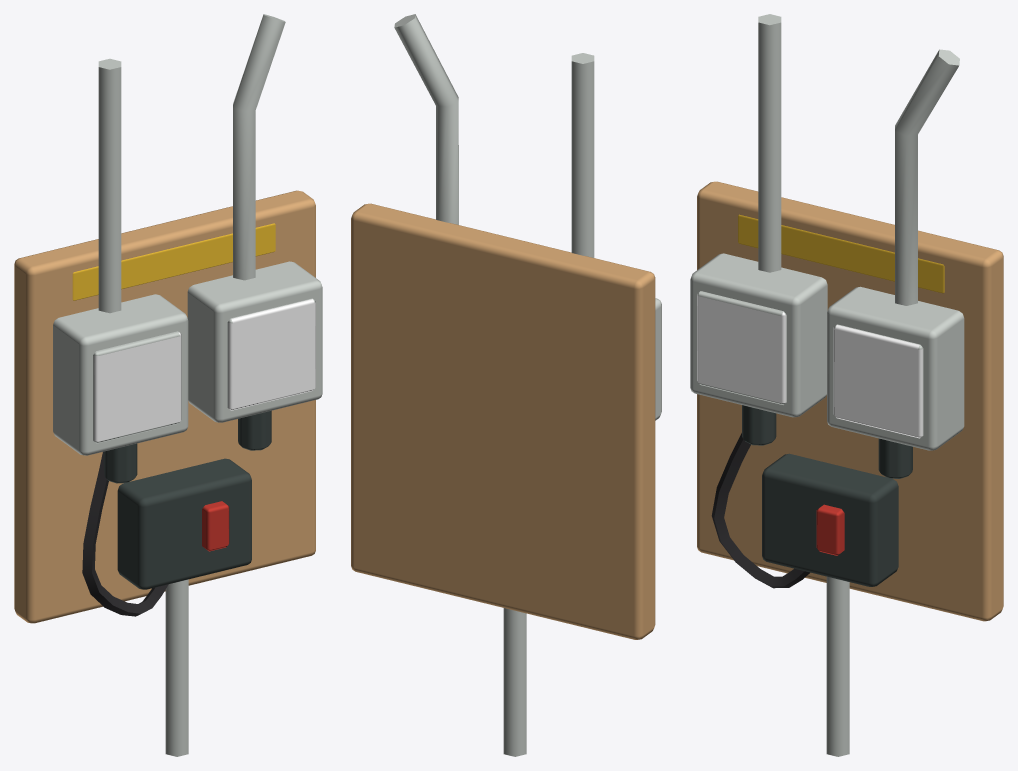
The model's file is prop_meter_box.glb.
3 renders of one model, left to right at view 1: azimuth 30°, elevation 25°; view 2: azimuth 150°, elevation 25°; view 3: azimuth 330°, elevation 25°, orthographic.
Parts seen in each view (by area): view 1: prop_meter_box; view 2: prop_meter_box; view 3: prop_meter_box.
Part boxes in pixels (left/top/right/bottom): prop_meter_box: left=14, top=14, right=322, bottom=756; prop_meter_box: left=351, top=14, right=661, bottom=756; prop_meter_box: left=690, top=14, right=1003, bottom=756.
Bounding box in the file's own units: 0.56 × 1.31 × 0.169.
